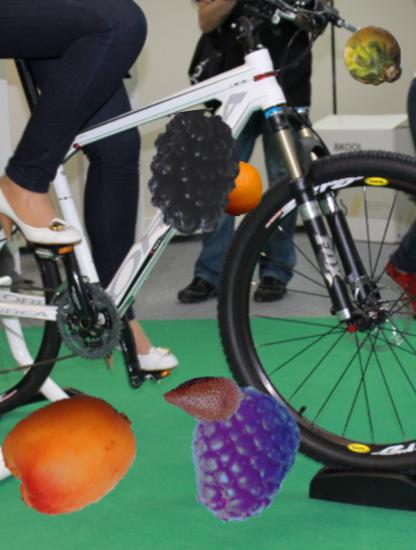Apricot: (2, 384, 137, 519)
Cactus: (343, 25, 405, 87)
Mulberry: (131, 111, 257, 237)
Orange: (209, 161, 264, 216)
Raspberry: (167, 385, 306, 524)
Salak: (162, 357, 247, 442)
